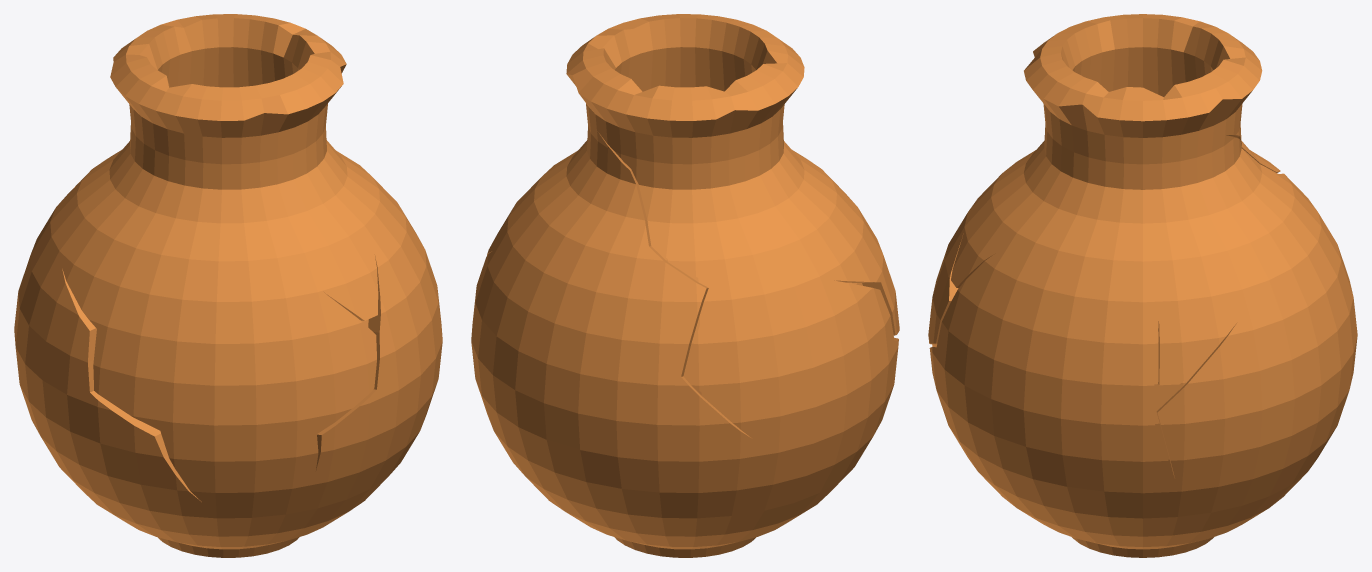
File: Pot.fbx
3 views of the same model, side by side, from view 1: azimuth 30°, elevation 25°; view 2: azimuth 150°, elevation 25°; view 3: azimuth 270°, elevation 25° (orthographic).
Parts seen in each view (by area): view 1: Sphere; view 2: Sphere; view 3: Sphere.
Part boxes in pixels (x1,y1,x2,y2): Sphere: [14, 14, 442, 557]; Sphere: [471, 14, 899, 557]; Sphere: [928, 14, 1357, 557].
Size of the model in its own units: 200 by 243 by 200.
